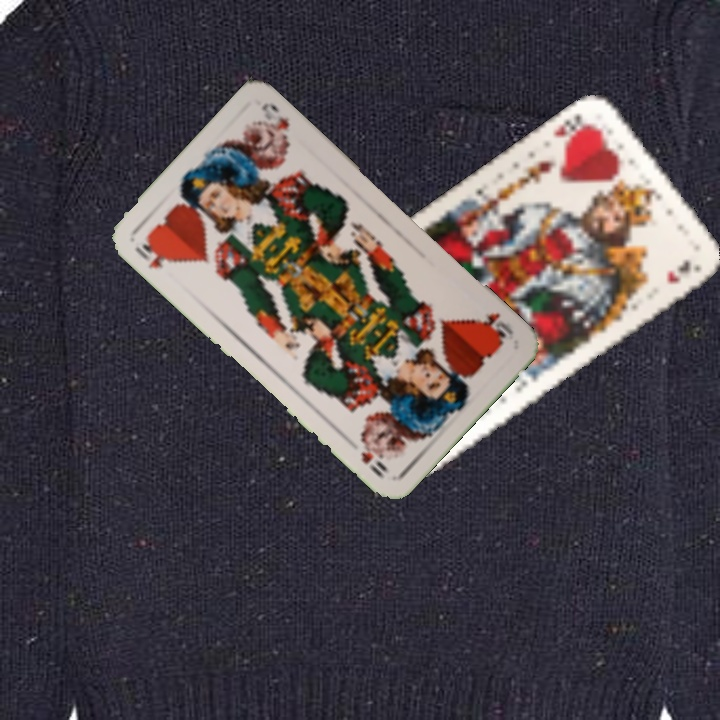HK: (548, 108, 598, 150)
HO: (131, 233, 177, 272), (473, 308, 516, 346)
